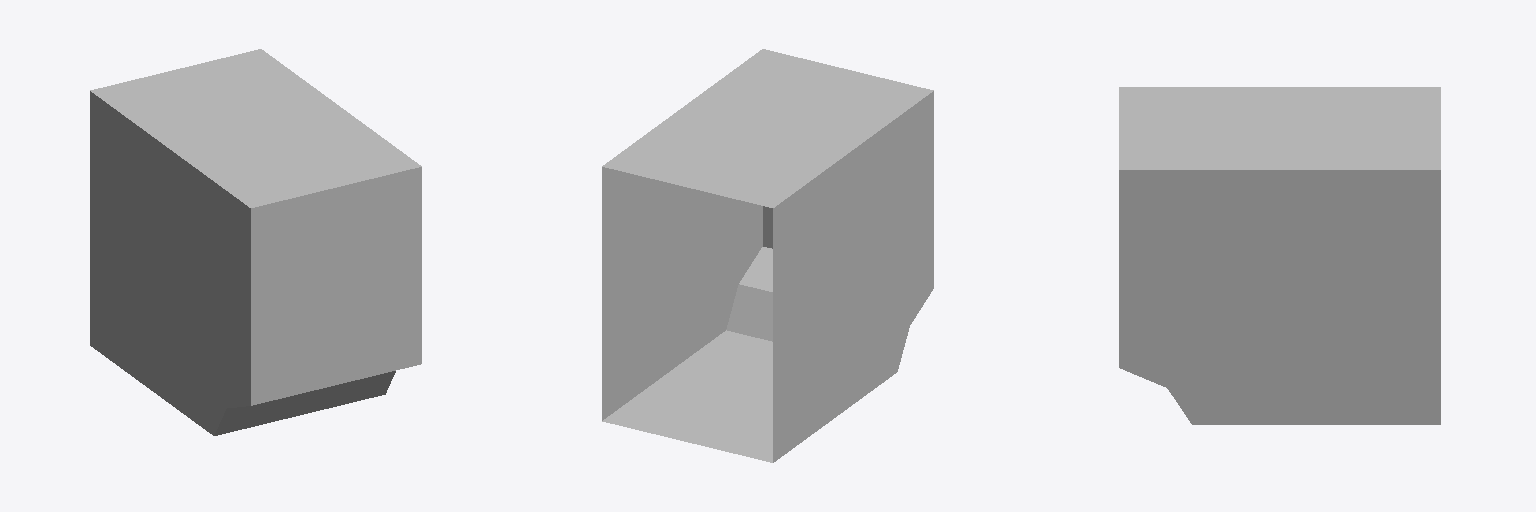
Rendered from sponza1.obj.
The picture shows the model from 3 angles: view 1: azimuth 30°, elevation 25°; view 2: azimuth 150°, elevation 25°; view 3: azimuth 270°, elevation 25°; orthographic projection.
Bounding box in the file's own units: 9.22 × 13.1 × 15.